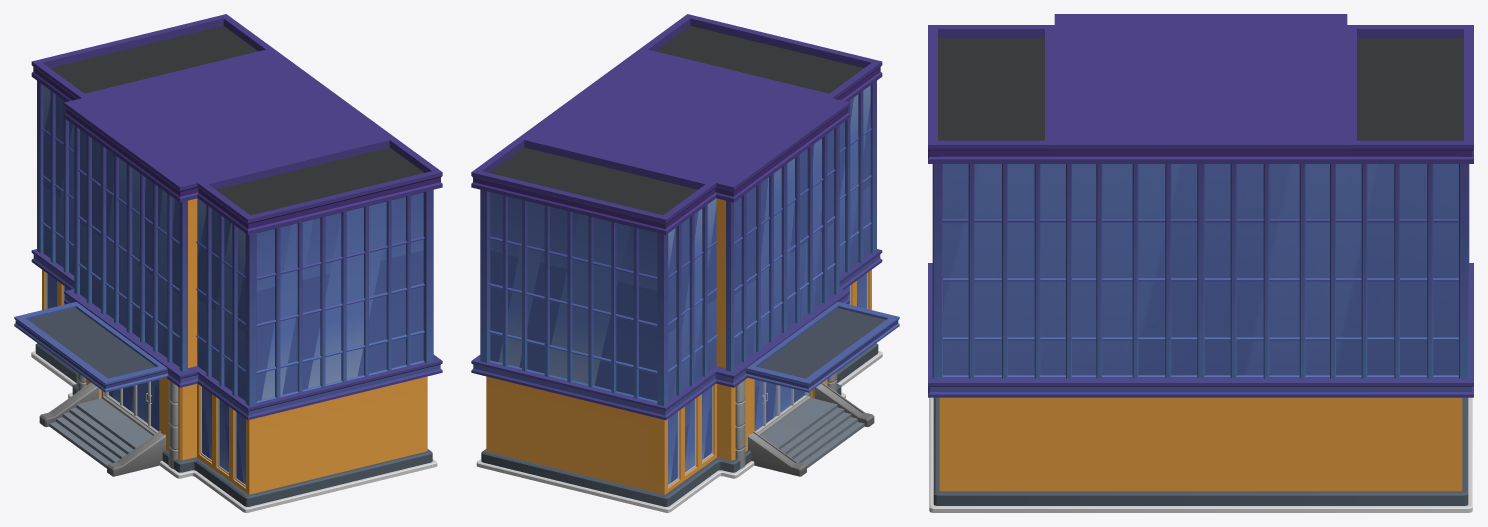
File: Building_17_1_B.fbx
3 views of the same model, side by side, from view 1: azimuth 30°, elevation 25°; view 2: azimuth 150°, elevation 25°; view 3: azimuth 270°, elevation 25° (orthographic). The views are drawn at different scales.
Visible parts, largest first — view 1: Building_17_1_B; view 2: Building_17_1_B; view 3: Building_17_1_B.
Boxes of the visible parts, x1,y1,x2,y2 form: Building_17_1_B: (14, 14, 442, 512); Building_17_1_B: (471, 14, 899, 512); Building_17_1_B: (928, 14, 1473, 512).
Bounding box in the file's own units: 857 × 875 × 1168.
